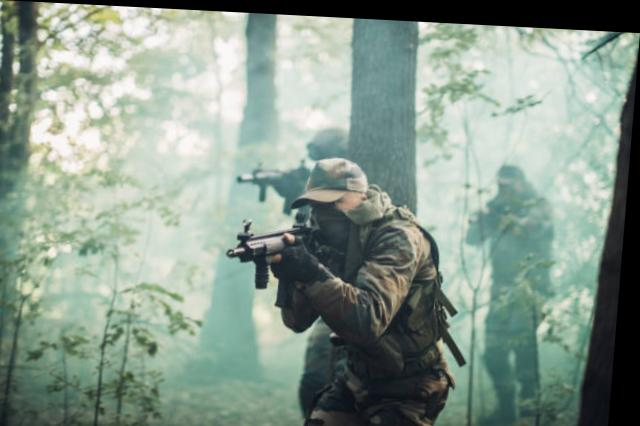other: (278, 164, 461, 424), (464, 161, 564, 408)
